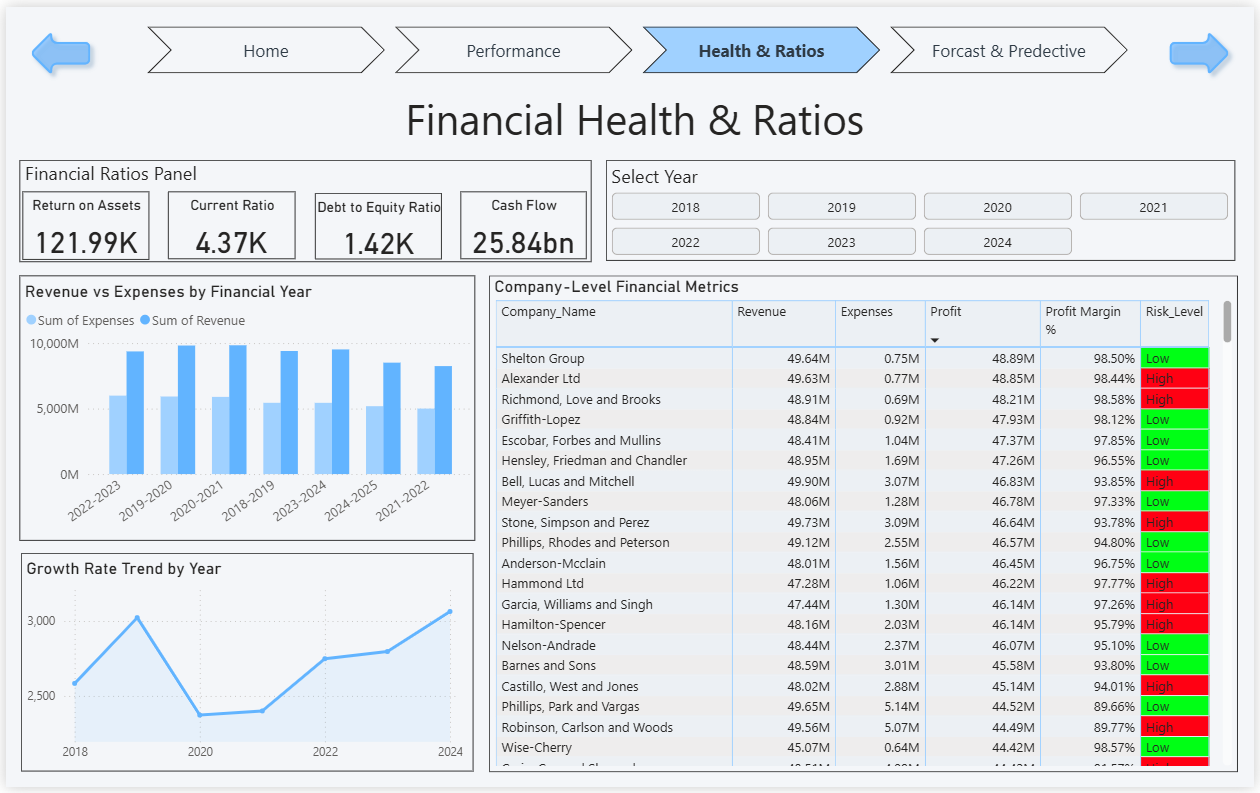

The dashboard page shown, as its layout file describes it:
{"tool":"powerbi","page":{"name":"Health & Ratios","canvas":[1280,800],"ordinal":2},"visuals":[{"type":"clusteredColumnChart","title":"Revenue vs Expenses by Financial Year","fields":{"Category":["finance financial_dataset.Financial_Year"],"Y":["Sum(finance financial_dataset.Expenses)","Sum(finance financial_dataset.Revenue)"]},"box":[13.9,274.7,467,272],"z":0},{"type":"advancedSlicerVisual","title":"Select Year","fields":{"Values":["finance financial_dataset.Year"]},"box":[615.9,157.7,645,103],"z":1000},{"type":"lineChart","title":"Growth Rate Trend by Year","fields":{"Category":["finance financial_dataset.Year"],"Y":["Sum(finance financial_dataset.Growth_Rate)"]},"box":[14.9,560.7,464,224],"z":2000},{"type":"cardVisual","title":"Return on Assets","fields":{"Data":["Sum(finance financial_dataset.Return_on_Assets)"]},"box":[16.9,189.6,130,70],"z":3000,"group":"g1"},{"type":"tableEx","title":"Company-Level Financial Metrics","fields":{"Values":["finance financial_dataset.Company_Name","finance financial_dataset.Revenue","finance financial_dataset.Expenses","finance financial_dataset.Profit","Table.Profit Margin %","finance financial_dataset.Risk_Level"]},"box":[494.9,274.7,768,509],"z":3000},{"type":"cardVisual","title":"Current Ratio","fields":{"Data":["Sum(finance financial_dataset.Current_Ratio)"]},"box":[166.5,189.8,130.9,69.6],"z":4000,"group":"g1"},{"type":"group","id":"g1","title":"Group 1","box":[16.9,189.6,578.1,70],"z":4000},{"type":"cardVisual","title":"Debt to Equity Ratio","fields":{"Data":["Sum(finance financial_dataset.Debt_to_Equity_Ratio)"]},"box":[317,191,130,68],"z":5000,"group":"g1"},{"type":"textbox","box":[208,80,864,80],"z":5000},{"type":"cardVisual","title":"Cash Flow","fields":{"Data":["Sum(finance financial_dataset.Cash_Flow)"]},"box":[465.8,189.8,129.2,69.6],"z":6000,"group":"g1"},{"type":"textbox","box":[13.9,157.7,586.4,104.4],"z":6000},{"type":"shape","box":[16,16,80,64],"z":8000},{"type":"shape","box":[1184,16,80,64],"z":9000},{"type":"pageNavigator","box":[144,20,1008,48],"z":10000}]}

Visuals, with their boxes in screenshot pixels (x1, y1, x2, y2), scaled from the page's 1280x800 canvas onto the 1260x793 screenshot:
"Revenue vs Expenses by Financial Year" clusteredColumnChart: [14,272,473,542]
"Select Year" advancedSlicerVisual: [606,156,1241,258]
"Growth Rate Trend by Year" lineChart: [15,556,471,778]
"Return on Assets" cardVisual: [17,188,145,257]
"Company-Level Financial Metrics" tableEx: [487,272,1243,777]
"Current Ratio" cardVisual: [164,188,293,257]
"Group 1" group: [17,188,586,257]
"Debt to Equity Ratio" cardVisual: [312,189,440,257]
textbox: [205,79,1055,159]
"Cash Flow" cardVisual: [459,188,586,257]
textbox: [14,156,591,260]
shape: [16,16,94,79]
shape: [1166,16,1244,79]
pageNavigator: [142,20,1134,67]
